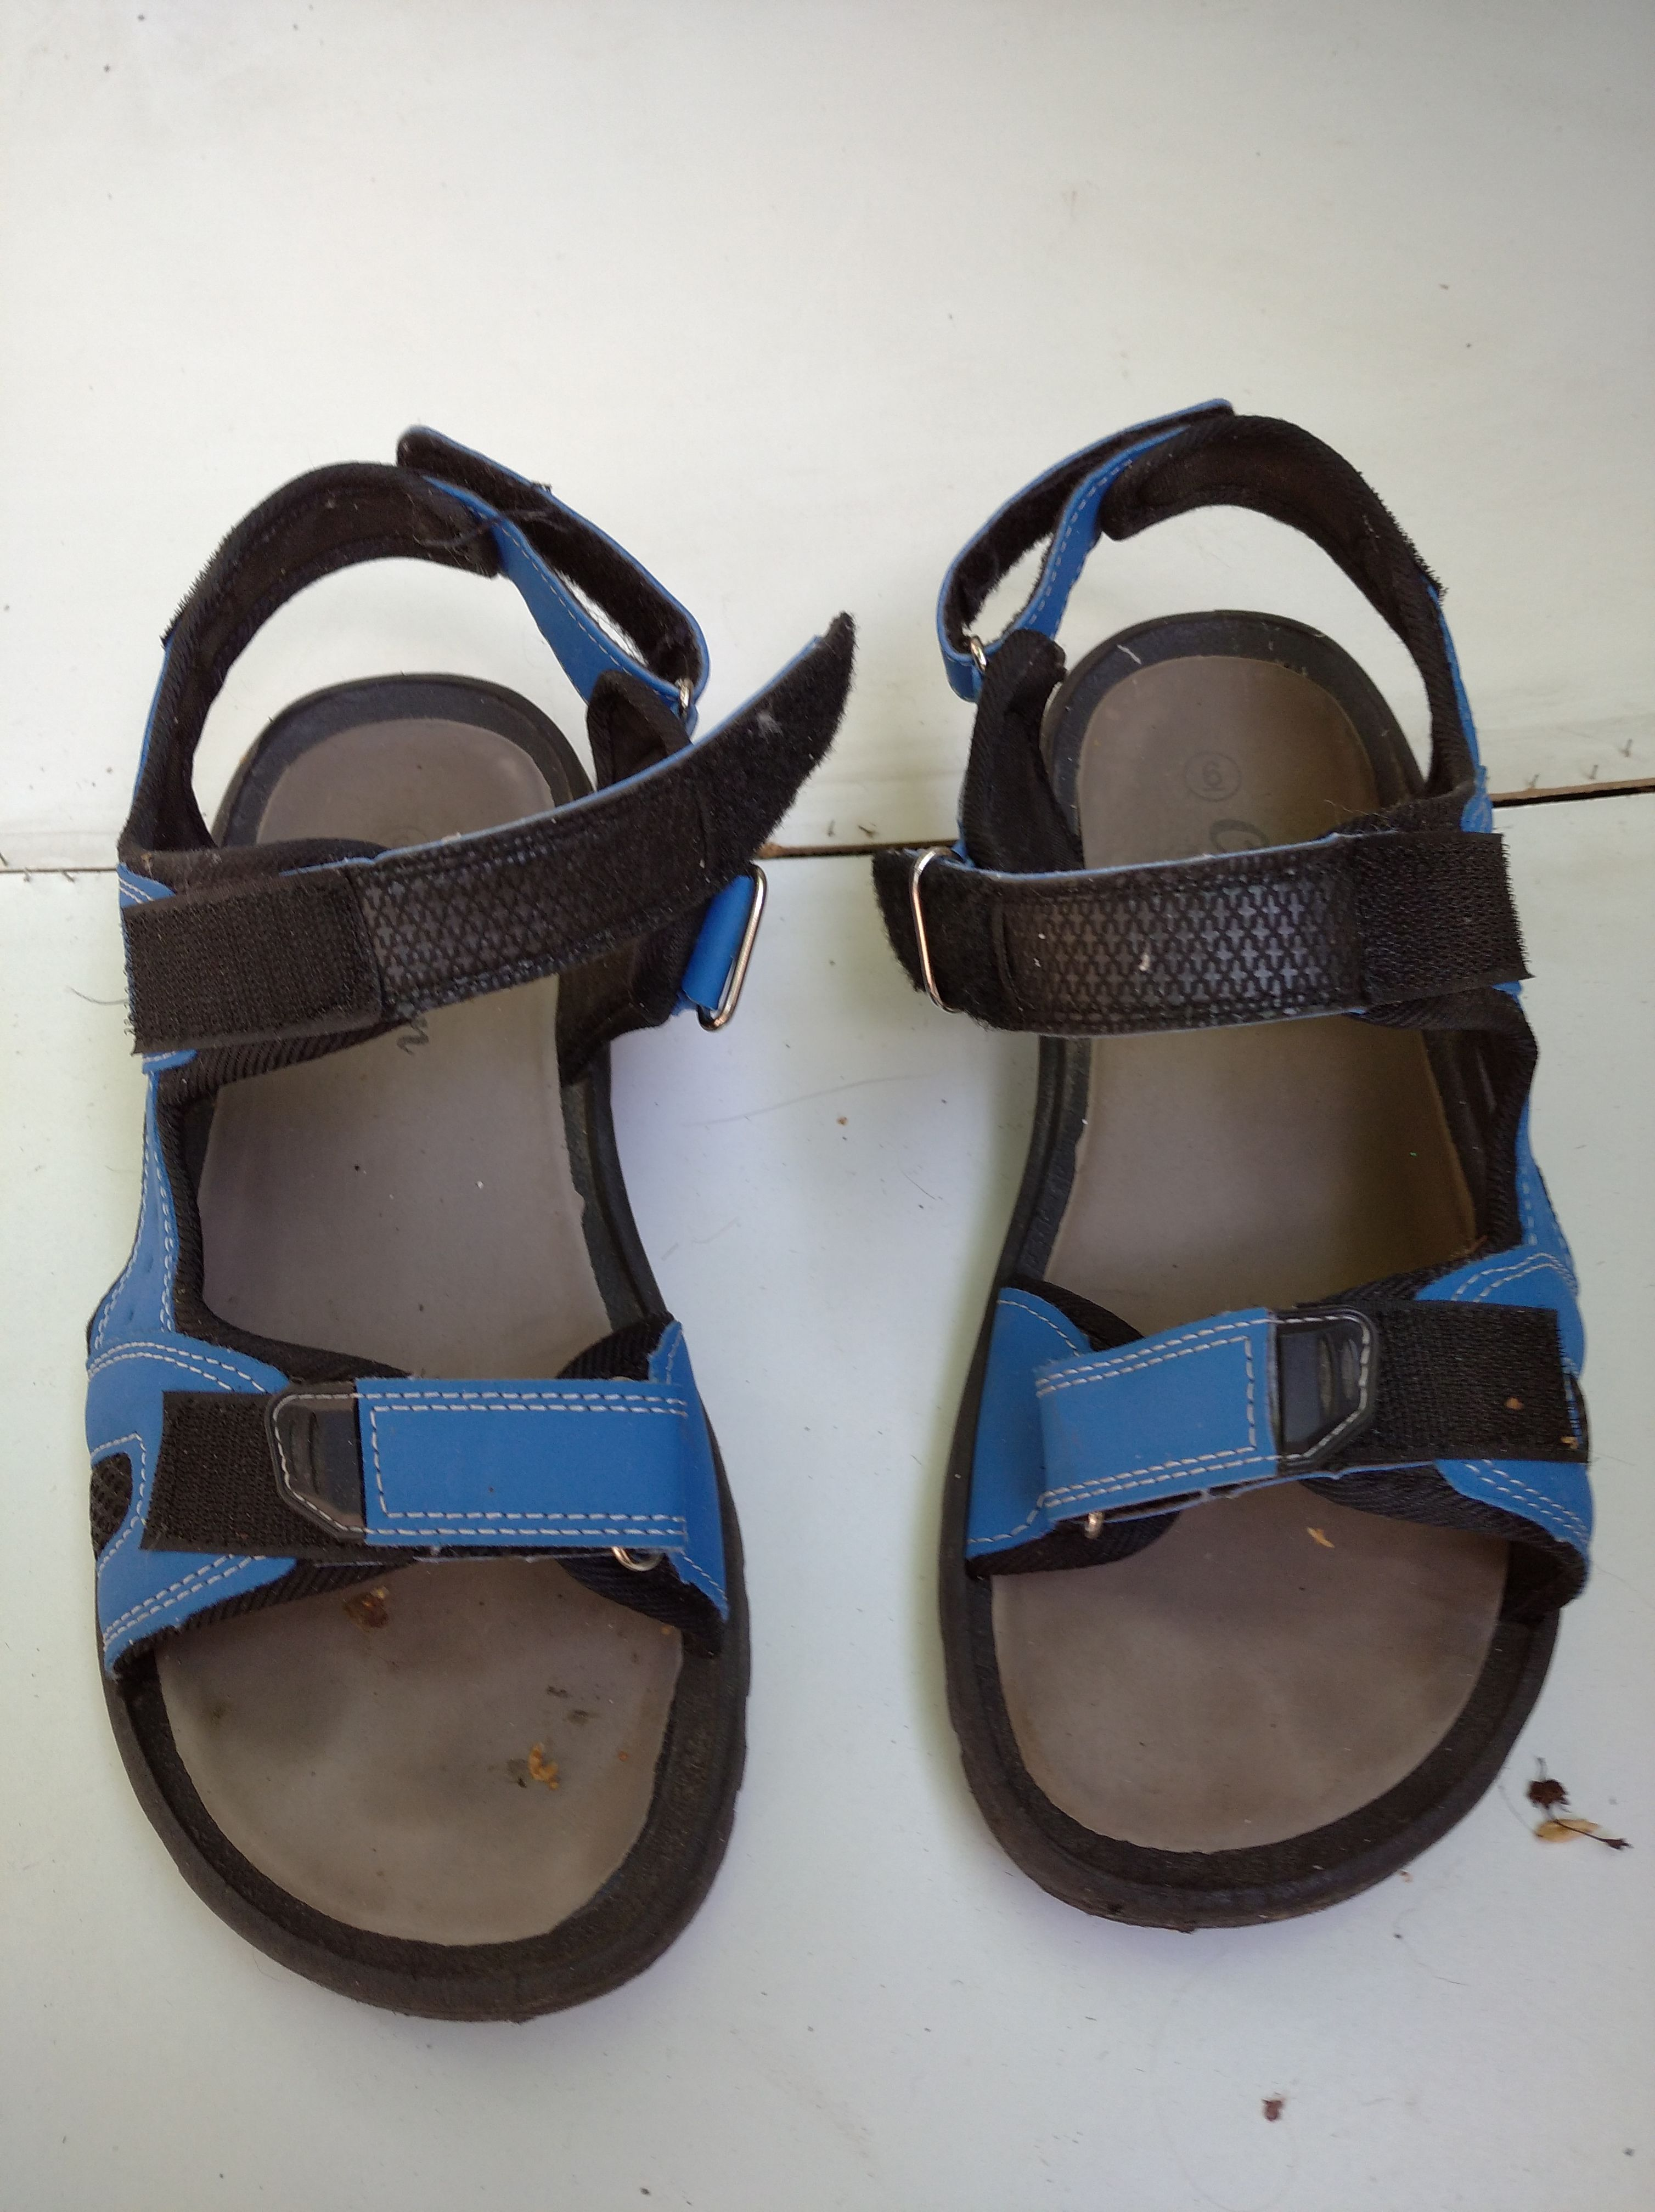clothes: (70, 450, 812, 2045), (861, 405, 1601, 1937)
